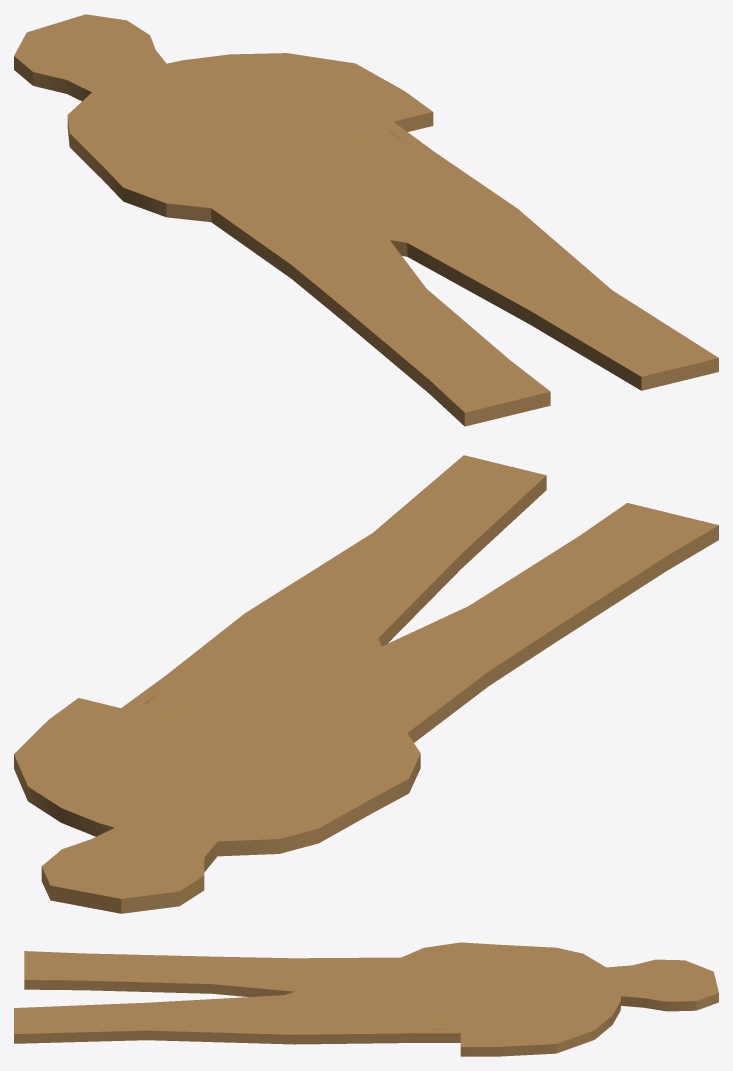
Rendered from Customer01.fbx.
3 views of the same model, one above another, from view 1: azimuth 30°, elevation 25°; view 2: azimuth 150°, elevation 25°; view 3: azimuth 270°, elevation 25° (orthographic). The views are drawn at different scales.
Parts seen in each view (by area): view 1: Customer_Mesh_03; view 2: Customer_Mesh_03; view 3: Customer_Mesh_03.
Boxes of the visible parts, <box> form: Customer_Mesh_03: <box>14,14,718,426</box>; Customer_Mesh_03: <box>14,455,718,913</box>; Customer_Mesh_03: <box>14,942,718,1056</box>.
Size of the model in its own units: 1.86 by 0.08 by 5.3.
